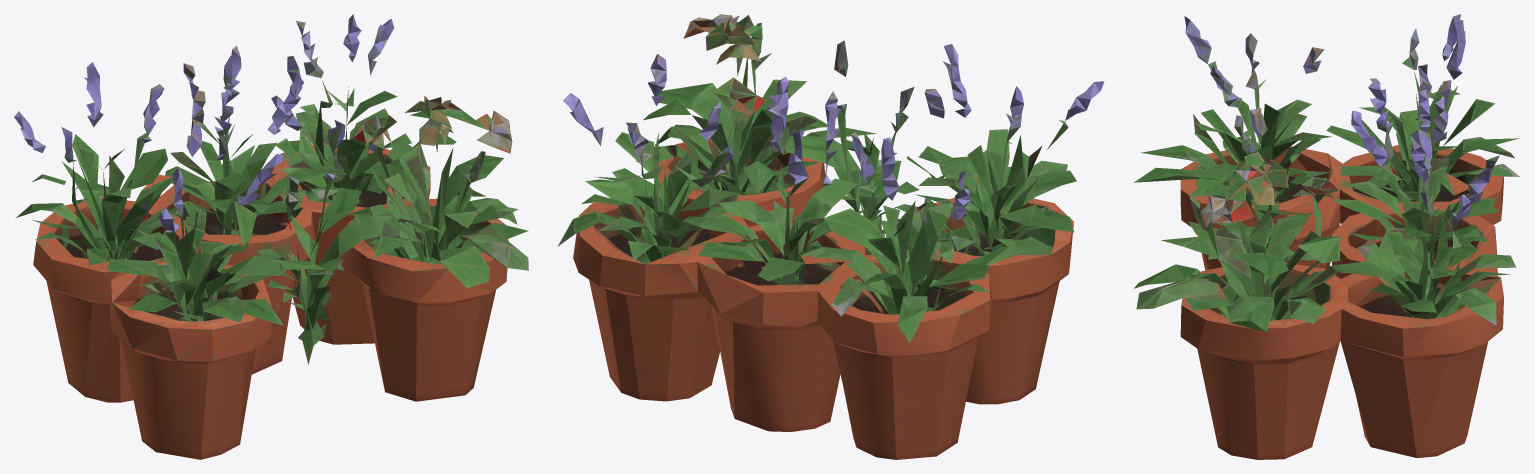
The model's file is flower_pots.glb.
3 views of the same model, side by side, from view 1: azimuth 30°, elevation 25°; view 2: azimuth 150°, elevation 25°; view 3: azimuth 270°, elevation 25° (orthographic). The views are drawn at different scales.
Parts seen in each view (by area): view 1: flower_pots; view 2: flower_pots; view 3: flower_pots.
Part boxes in pixels (x1,y1,x2,y2): flower_pots: [14, 14, 528, 459]; flower_pots: [558, 14, 1104, 459]; flower_pots: [1134, 14, 1519, 459].
Size of the model in its own units: 1.06 by 0.8 by 0.8922.
Materials: 1 (1 with a texture image).
